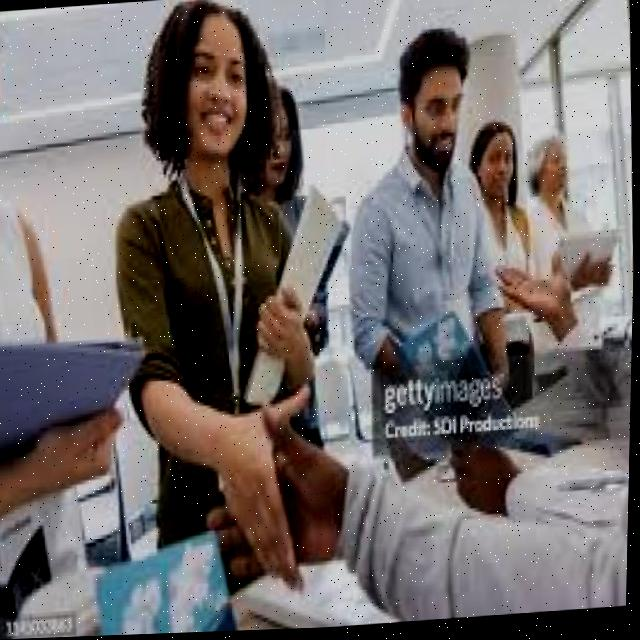id_card: (165, 163, 271, 419)
